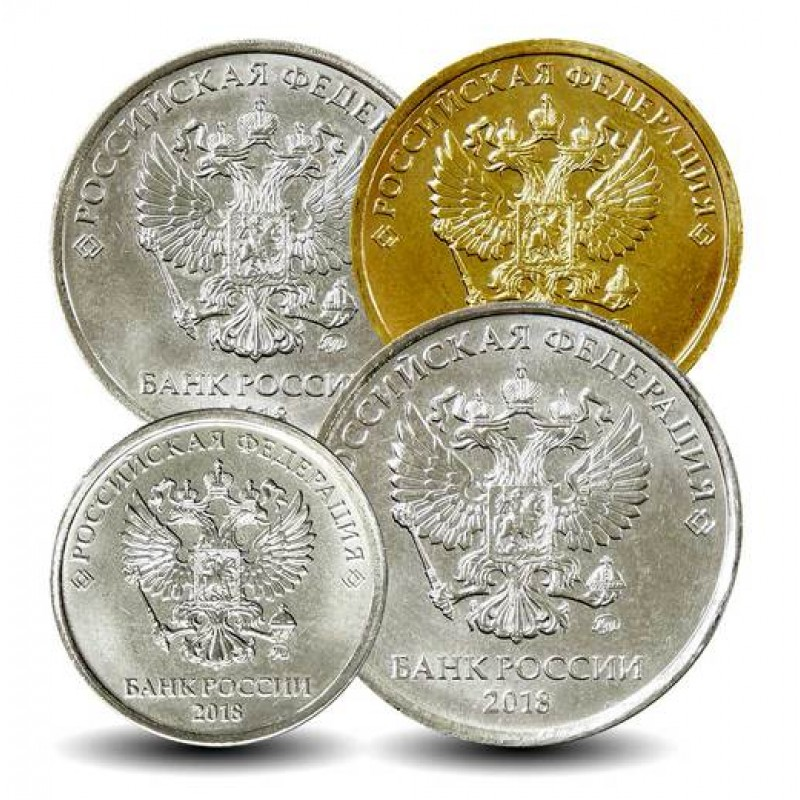coin: (320, 302, 743, 749), (341, 27, 745, 424), (53, 26, 425, 444), (47, 408, 388, 749)
